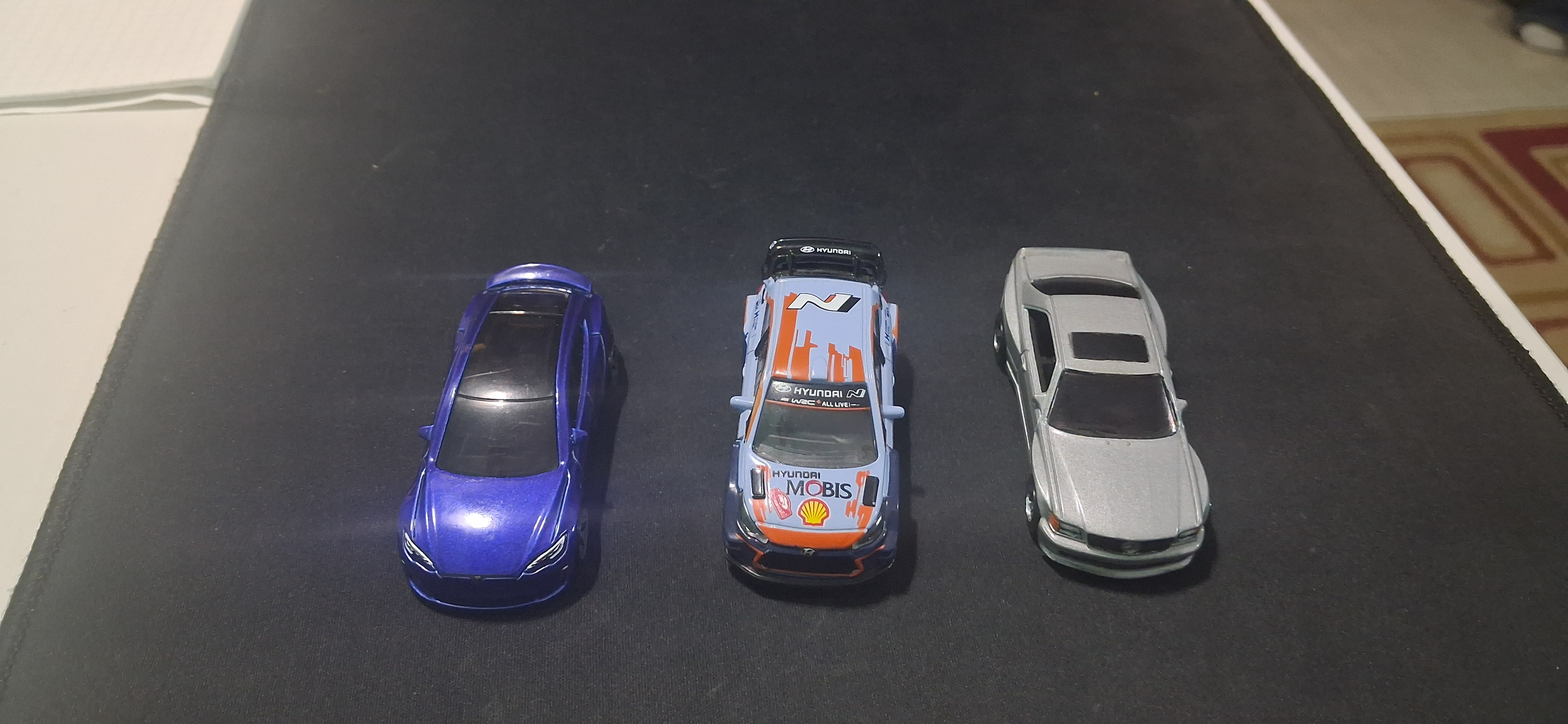Hyundai_I20_WRC: (716, 191, 931, 666)
Mercedes_Benz_560_SEC_AMG: (970, 213, 1236, 635)
Tesla_Model_S_Plaid: (398, 217, 628, 649)
